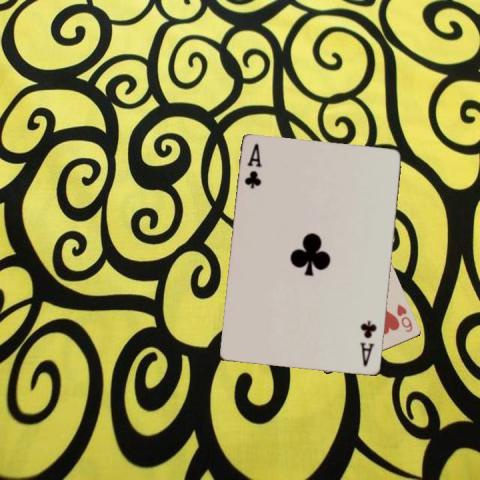6h: (394, 301, 414, 333)
Ac: (241, 141, 263, 190), (357, 318, 378, 368)
